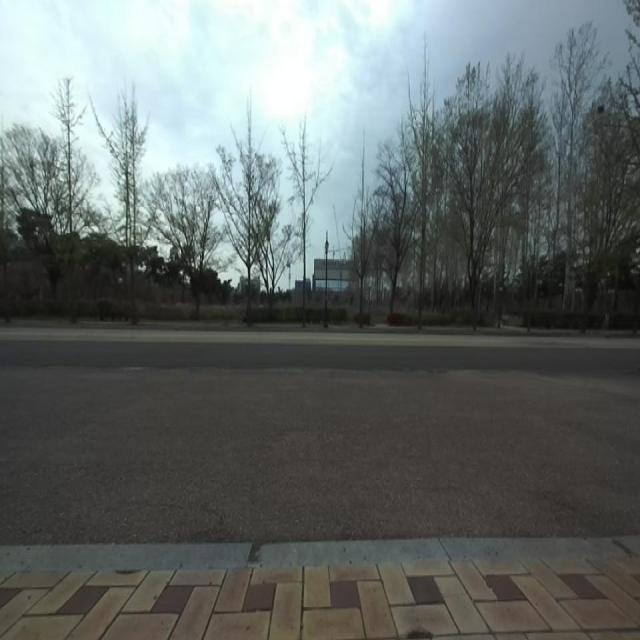sidewalk: (0, 367, 640, 543)
